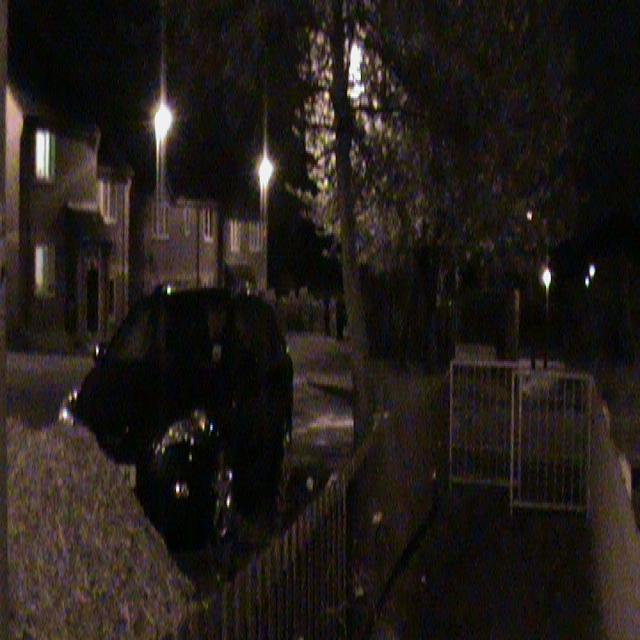Car: (57, 272, 294, 556)
